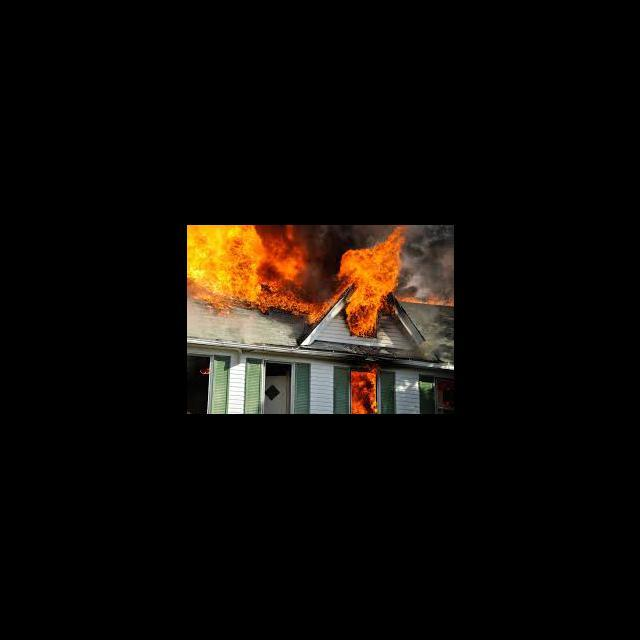Fire: (188, 230, 324, 318), (342, 226, 406, 339), (350, 366, 380, 414)
Smoke: (410, 227, 452, 296)
